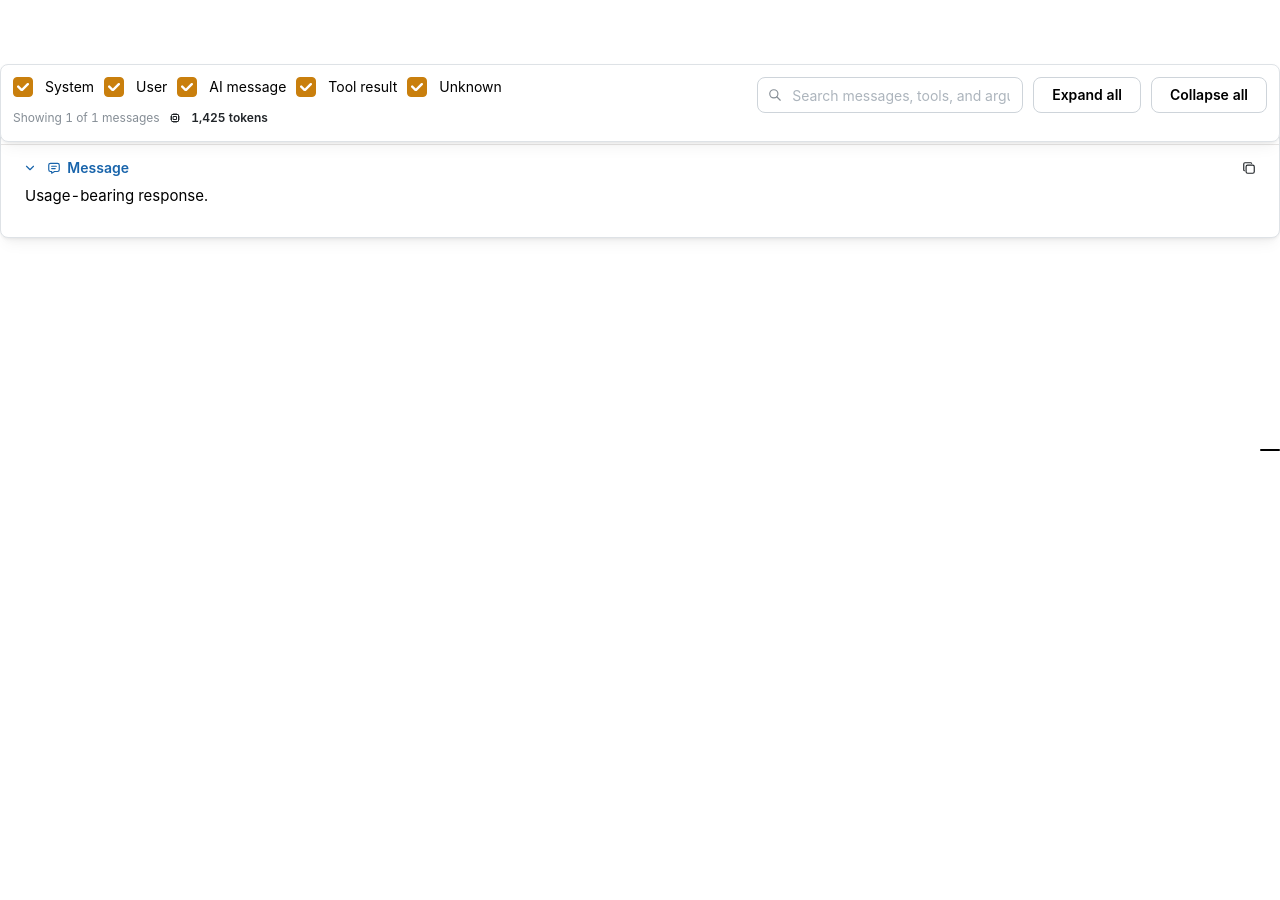
Test case: usage details expose totals and token subsets
Click the button with aria-label "Usage details": x=220, y=118 [164, 107, 276, 129]
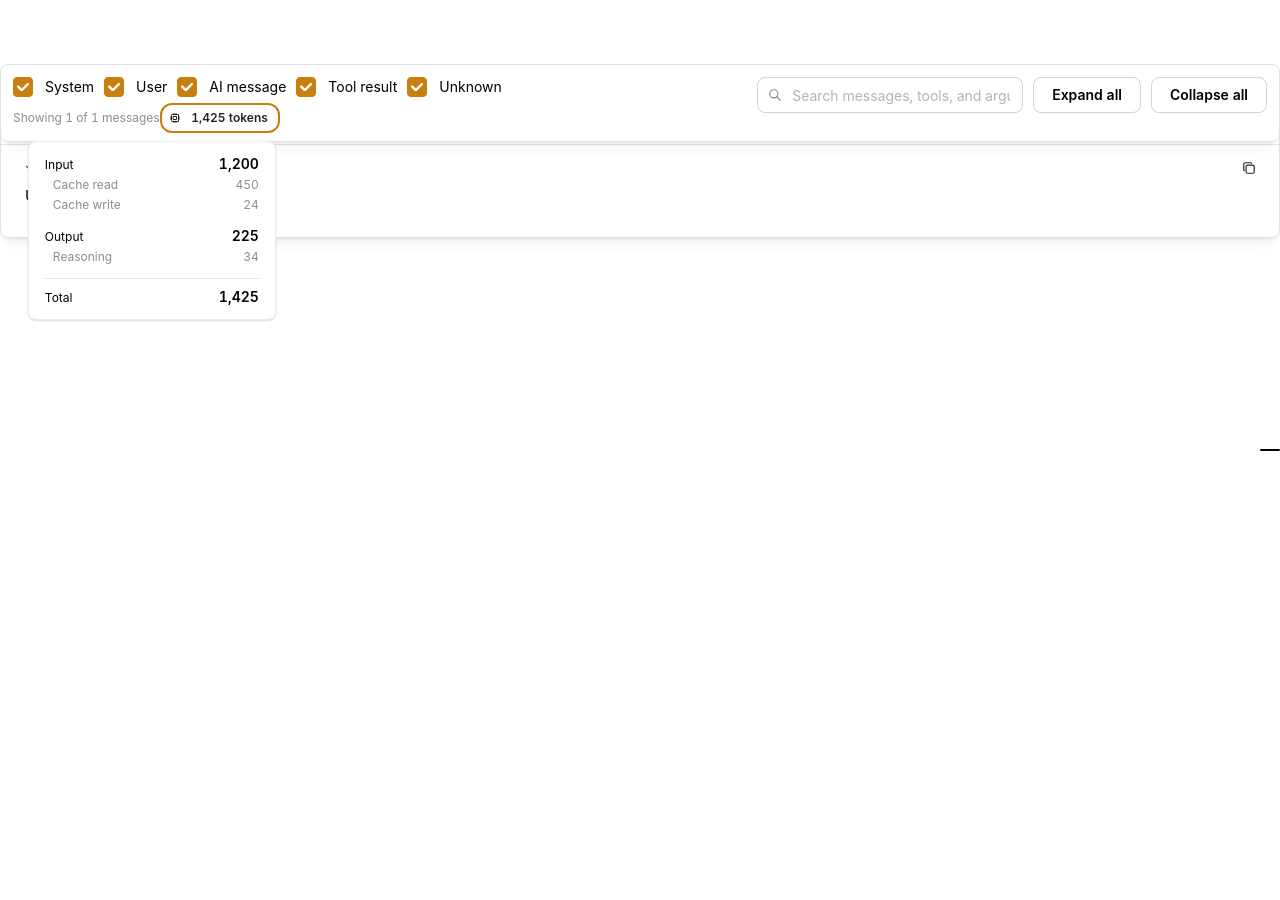
Expected: the element with class "trajectory-usage-details" reads "Input 1,200 Cache read 450 Cache write 24 Output 225 Reasoning 34 Total 1,425", [45, 154, 259, 307]
